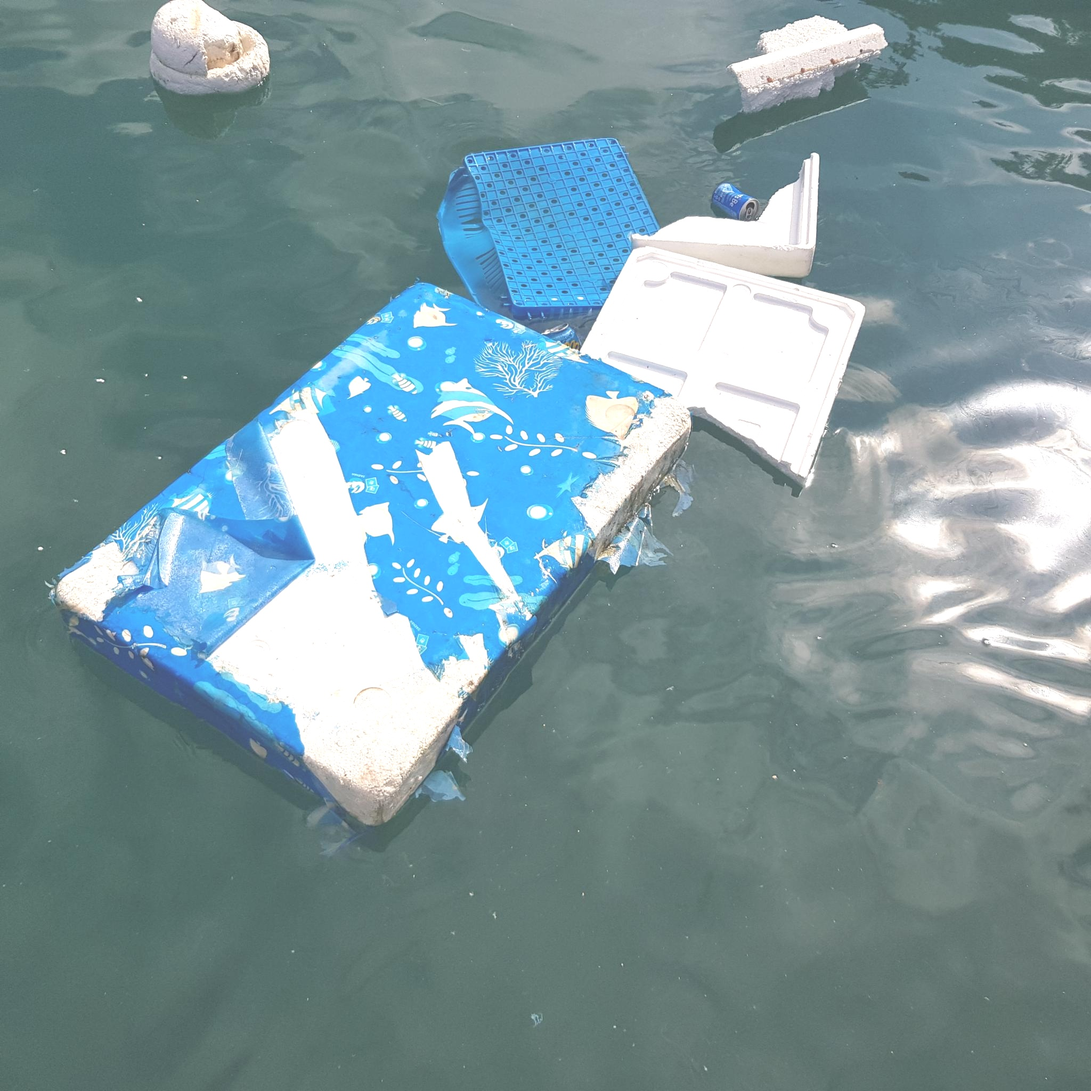sampah_terapung: (55, 282, 693, 828), (580, 246, 867, 489), (628, 153, 820, 279), (726, 15, 889, 115), (149, 1, 271, 96), (712, 183, 760, 222), (541, 323, 583, 352)
